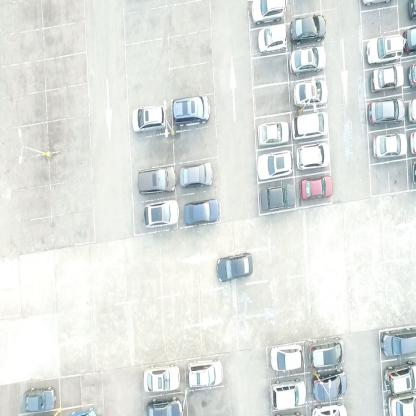car: (172, 93, 210, 128), (366, 32, 404, 66), (290, 13, 326, 46), (384, 359, 416, 396), (308, 337, 345, 369), (311, 371, 349, 401), (258, 182, 296, 212), (256, 150, 294, 180), (137, 164, 176, 193), (271, 378, 306, 410), (217, 252, 252, 284), (291, 110, 328, 140), (367, 97, 405, 126), (289, 45, 327, 74), (380, 325, 415, 356), (131, 103, 166, 134), (144, 198, 180, 228), (188, 358, 224, 388), (182, 197, 219, 226), (143, 364, 180, 393), (179, 160, 214, 190), (370, 63, 404, 93), (372, 131, 407, 160), (293, 80, 329, 108), (297, 142, 330, 172), (23, 384, 56, 414), (252, 0, 288, 27), (270, 341, 303, 370), (257, 22, 287, 53), (257, 119, 289, 147), (299, 174, 333, 200), (145, 396, 182, 415), (388, 393, 416, 415), (312, 404, 348, 415)
